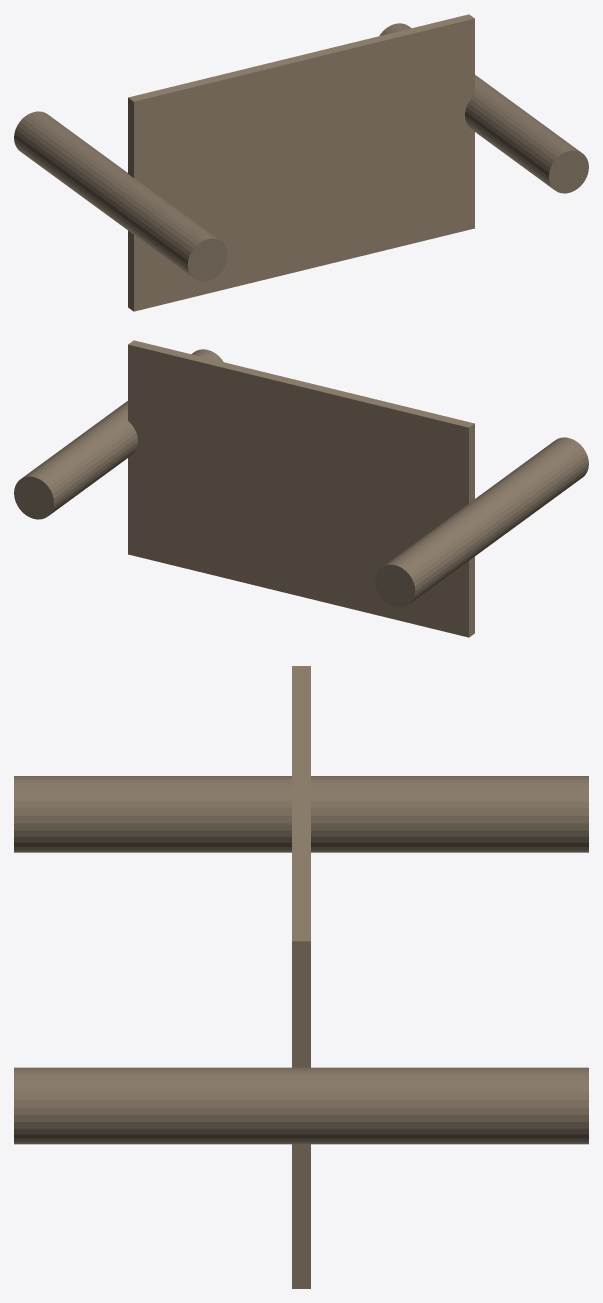
File: gate.glb
3 views of the same model, one above another, from view 1: azimuth 30°, elevation 25°; view 2: azimuth 150°, elevation 25°; view 3: azimuth 270°, elevation 25° (orthographic). The views are drawn at different scales.
Parts seen in each view (by area): view 1: geometry_0; view 2: geometry_0; view 3: geometry_0.
Boxes of the visible parts, x1=… form: geometry_0: x1=14, y1=14, x2=588, y2=311; geometry_0: x1=14, y1=340, x2=588, y2=637; geometry_0: x1=14, y1=666, x2=588, y2=1288.
Size of the model in its own units: 2 by 1 by 1.5.
